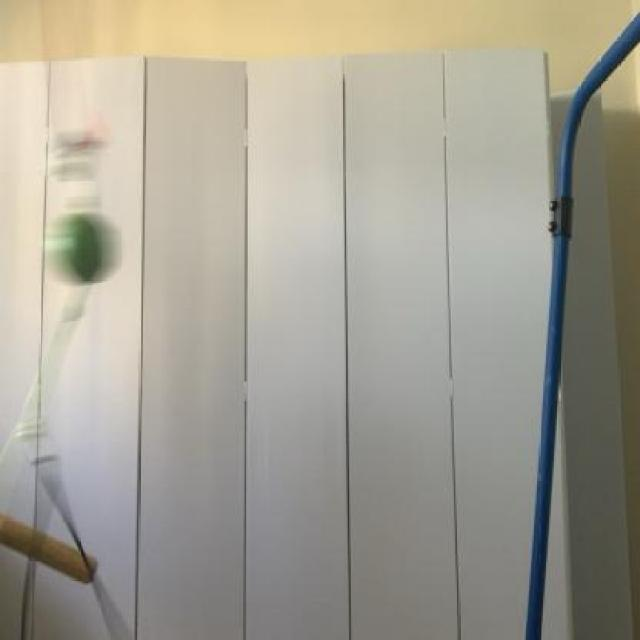baseball: (30, 204, 133, 288)
